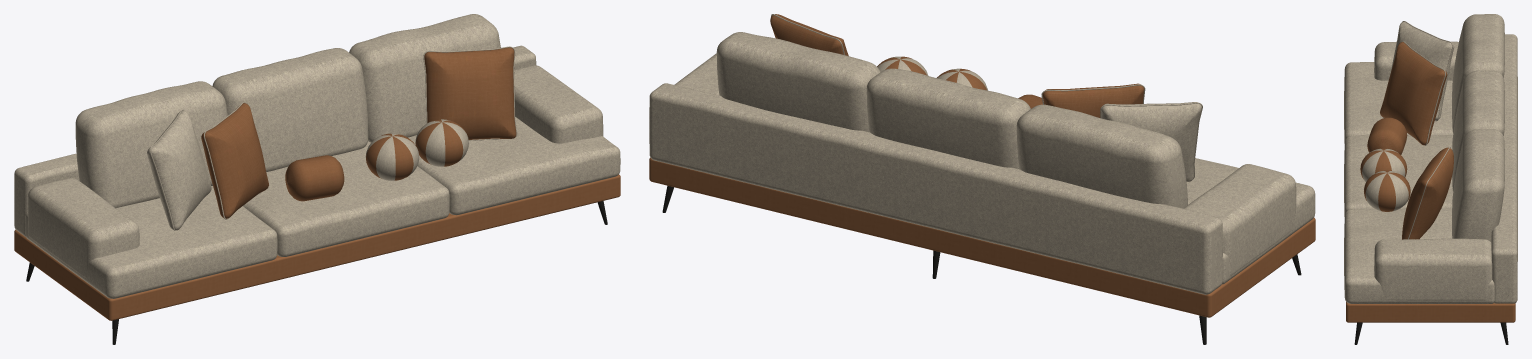
The model's file is straight.glb.
The picture shows the model from 3 angles, left to right: view 1: azimuth 30°, elevation 25°; view 2: azimuth 150°, elevation 25°; view 3: azimuth 270°, elevation 25°; orthographic projection. The views are drawn at different scales.
Parts seen in each view (by area): view 1: fabric, accent, trim, pillows (×2); view 2: fabric, trim, pillows (×2), accent, legs; view 3: fabric, accent, pillows (×2), trim, legs.
Part boxes in pixels (left/top/right/bottom): fabric: left=14, top=14, right=620, bottom=298; accent: left=201, top=47, right=516, bottom=218; trim: left=14, top=174, right=620, bottom=320; pillows (×2): left=147, top=46, right=517, bottom=230; fabric: left=649, top=32, right=1315, bottom=294; trim: left=649, top=157, right=1315, bottom=317; pillows (×2): left=771, top=14, right=1202, bottom=181; accent: left=770, top=14, right=1144, bottom=117; legs: left=662, top=185, right=1301, bottom=344; fabric: left=1344, top=14, right=1517, bottom=303; accent: left=1360, top=42, right=1453, bottom=239; pillows (×2): left=1362, top=21, right=1454, bottom=239; trim: left=1346, top=302, right=1515, bottom=322; legs: left=1354, top=322, right=1508, bottom=344.
Size of the model in its own units: 3 by 0.9214 by 1.
Materials: 5 (5 with a texture image).
